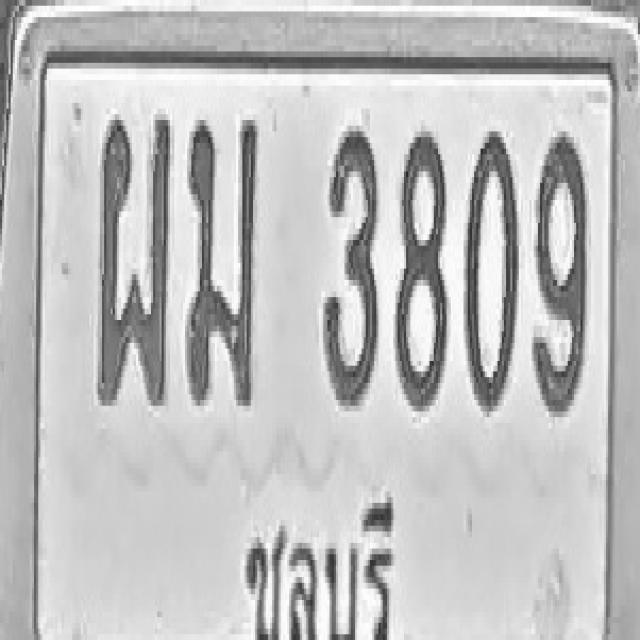0: (463, 126, 519, 411)
3: (323, 123, 379, 408)
37PhorPhueng: (97, 108, 171, 406)
42MorMa: (185, 114, 257, 406)
8: (394, 128, 448, 408)
9: (531, 129, 587, 414)
Chonburi: (223, 451, 404, 640)
